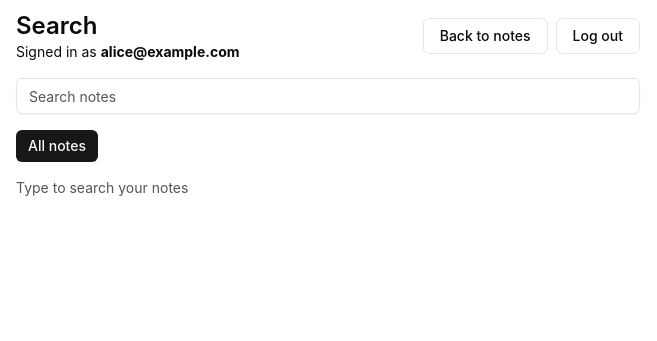
Scenario: debounced search box › Rapid typing sends one request
expect the text "Type to search your notes" is shown: met, box [16,179,188,196]
Type "b" into the search field labelled "Search notes" at (328, 96), box [16,78,640,114]
Wait 100 ms
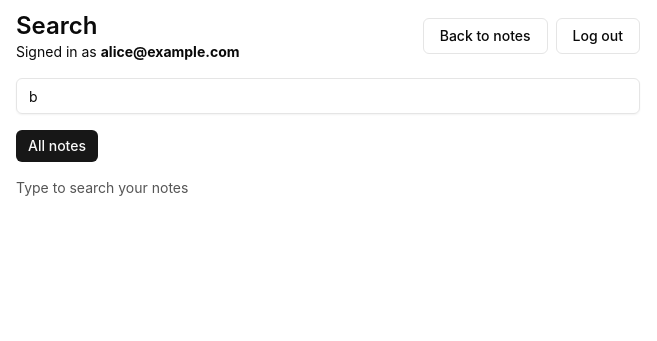
Replace the text in the search field named "Search notes" with "bu" at (328, 96), box [16,78,640,114]
Wait 100 ms
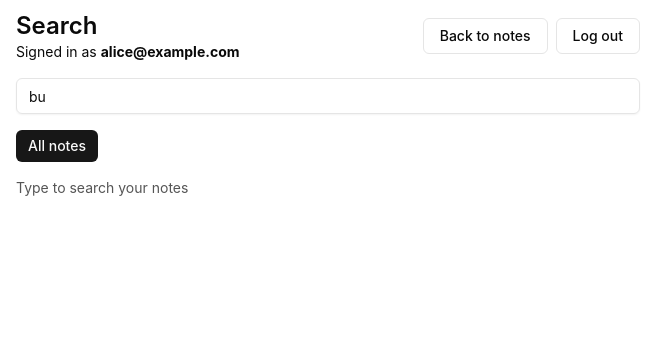
Replace the text in the search field named "Search notes" with "bud" at (328, 96), box [16,78,640,114]
Wait 450 ms
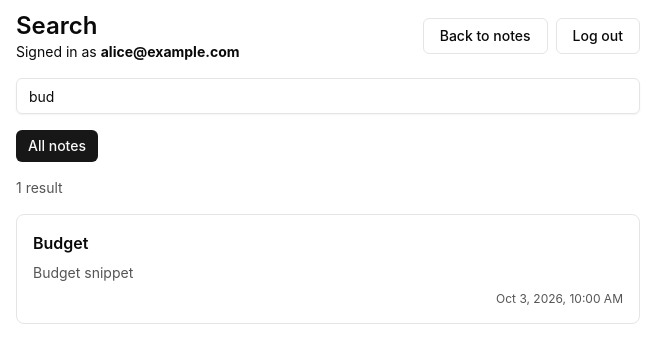
expect the link "Budget" is shown: met, box [33,233,88,253]
